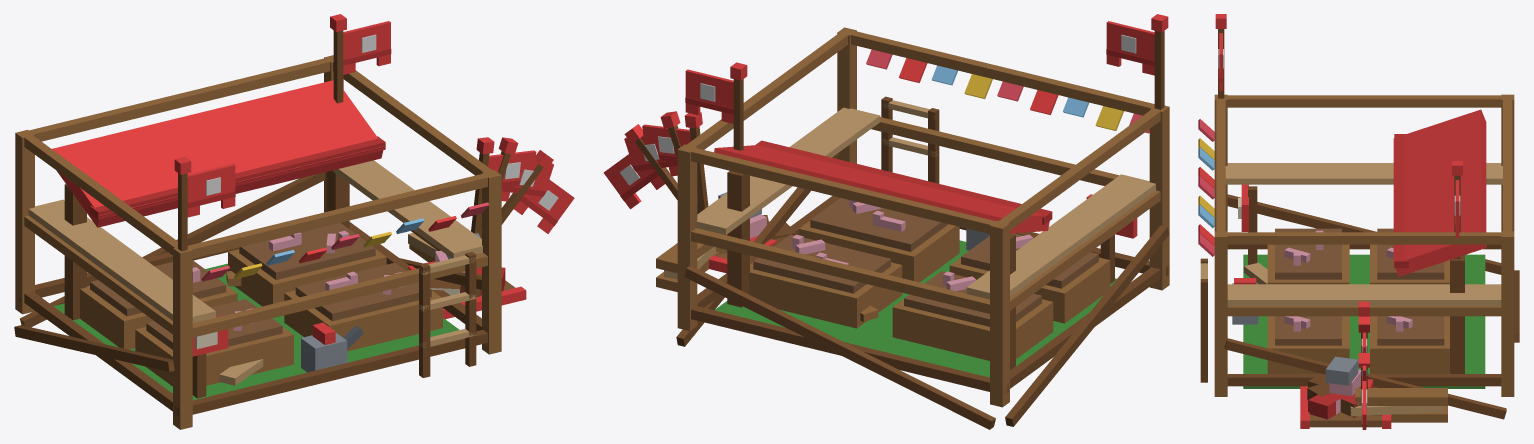
The model's file is robin-producer.glb.
The picture shows the model from 3 angles, left to right: view 1: azimuth 30°, elevation 25°; view 2: azimuth 150°, elevation 25°; view 3: azimuth 270°, elevation 25°; orthographic projection. The views are drawn at different scales.
Visible parts, largest first — view 1: scaffold-mesh, built-mesh, dismantle-75-mesh, dismantle-50-mesh, dismantle-25-mesh, scaffold-banner, banner, dismantle-25-banner, dismantle-75-banner, flag-pole, scaffold-flag-pole, dismantle-50-banner (+2 smaller); view 2: scaffold-mesh, built-mesh, dismantle-75-mesh, dismantle-50-mesh, banner, scaffold-banner, dismantle-25-banner, scaffold-flag-pole, dismantle-50-banner, dismantle-25-mesh, dismantle-75-banner, flag-pole (+2 smaller); view 3: scaffold-mesh, built-mesh, dismantle-75-mesh, dismantle-25-mesh, dismantle-50-mesh, scaffold-flag-pole, flag-pole, banner.
Boxes of the visible parts, x1=… form: scaffold-mesh: x1=14, y1=55, x2=501, y2=429; built-mesh: x1=52, y1=80, x2=442, y2=385; dismantle-75-mesh: x1=53, y1=170, x2=525, y2=400; dismantle-50-mesh: x1=73, y1=224, x2=481, y2=385; dismantle-25-mesh: x1=197, y1=233, x2=526, y2=398; scaffold-banner: x1=187, y1=163, x2=235, y2=217; banner: x1=343, y1=21, x2=391, y2=74; dismantle-25-banner: x1=514, y1=173, x2=574, y2=233; dismantle-75-banner: x1=488, y1=150, x2=536, y2=189; flag-pole: x1=330, y1=14, x2=346, y2=103; scaffold-flag-pole: x1=174, y1=157, x2=191, y2=251; dismantle-50-banner: x1=501, y1=161, x2=553, y2=206; scaffold-mesh: x1=656, y1=27, x2=1169, y2=429; built-mesh: x1=714, y1=140, x2=1098, y2=370; dismantle-75-mesh: x1=709, y1=194, x2=1133, y2=377; dismantle-50-mesh: x1=727, y1=200, x2=1133, y2=350; banner: x1=685, y1=69, x2=733, y2=123; scaffold-banner: x1=1106, y1=21, x2=1154, y2=75; dismantle-25-banner: x1=603, y1=147, x2=664, y2=209; scaffold-flag-pole: x1=1151, y1=14, x2=1168, y2=109; dismantle-50-banner: x1=624, y1=133, x2=677, y2=180; dismantle-25-mesh: x1=709, y1=192, x2=878, y2=321; dismantle-75-banner: x1=642, y1=124, x2=690, y2=162; flag-pole: x1=730, y1=62, x2=747, y2=150; scaffold-mesh: x1=1198, y1=94, x2=1519, y2=422; built-mesh: x1=1238, y1=109, x2=1486, y2=345; dismantle-75-mesh: x1=1232, y1=184, x2=1485, y2=428; dismantle-25-mesh: x1=1244, y1=262, x2=1449, y2=428; dismantle-50-mesh: x1=1232, y1=213, x2=1464, y2=428; scaffold-flag-pole: x1=1215, y1=14, x2=1226, y2=98; flag-pole: x1=1452, y1=161, x2=1462, y2=258; banner: x1=1454, y1=180, x2=1460, y2=238.
Size of the model in its own units: 2.71 by 1.55 by 1.73.
